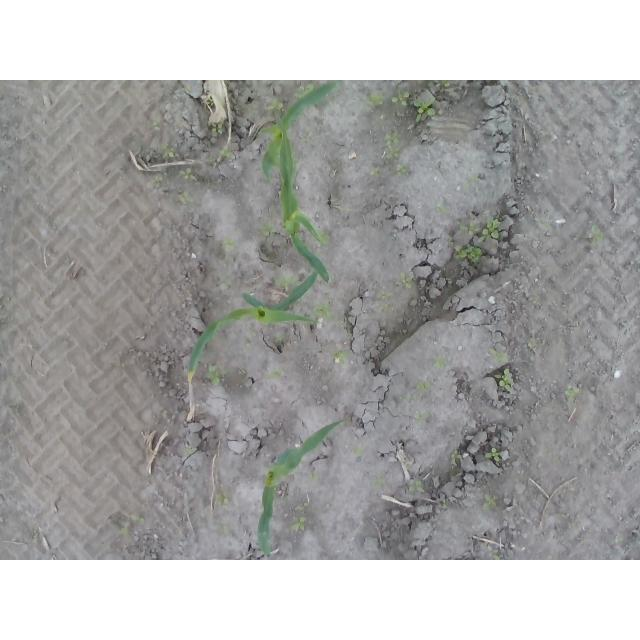Maize: (189, 267, 319, 373), (257, 420, 345, 558), (278, 118, 335, 283), (260, 80, 344, 186)
Weeds: (460, 219, 501, 242), (119, 510, 144, 538), (290, 505, 313, 535), (494, 369, 514, 396), (414, 100, 435, 125), (455, 245, 481, 264), (383, 133, 400, 161), (207, 364, 225, 388), (414, 410, 433, 431), (391, 88, 410, 108), (397, 268, 414, 289), (489, 348, 512, 363), (314, 303, 333, 321), (482, 494, 499, 514), (277, 274, 299, 289), (375, 291, 390, 312), (564, 384, 581, 401), (258, 221, 274, 239), (589, 224, 603, 244), (485, 448, 501, 465), (215, 490, 231, 506), (367, 93, 384, 108), (223, 238, 241, 251), (433, 358, 448, 373), (161, 142, 175, 158), (333, 350, 347, 366), (178, 168, 195, 181), (407, 478, 423, 491), (295, 85, 313, 96), (212, 121, 225, 136), (177, 193, 192, 206), (394, 166, 409, 178), (146, 120, 162, 131), (417, 383, 432, 394), (270, 369, 285, 380), (450, 449, 462, 462), (220, 151, 234, 162), (355, 447, 368, 458), (371, 479, 383, 490), (440, 81, 452, 91), (434, 206, 449, 214), (152, 175, 163, 185), (370, 167, 380, 177), (206, 97, 215, 107)
